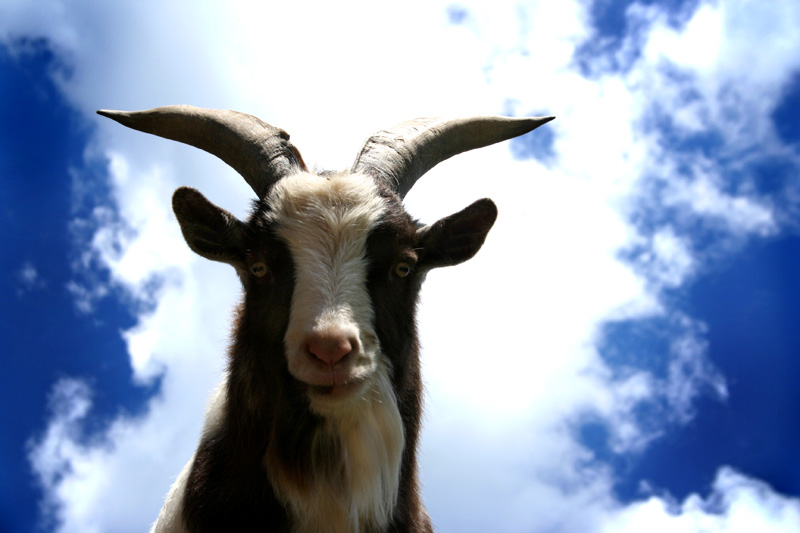goat: (93, 107, 560, 533)
